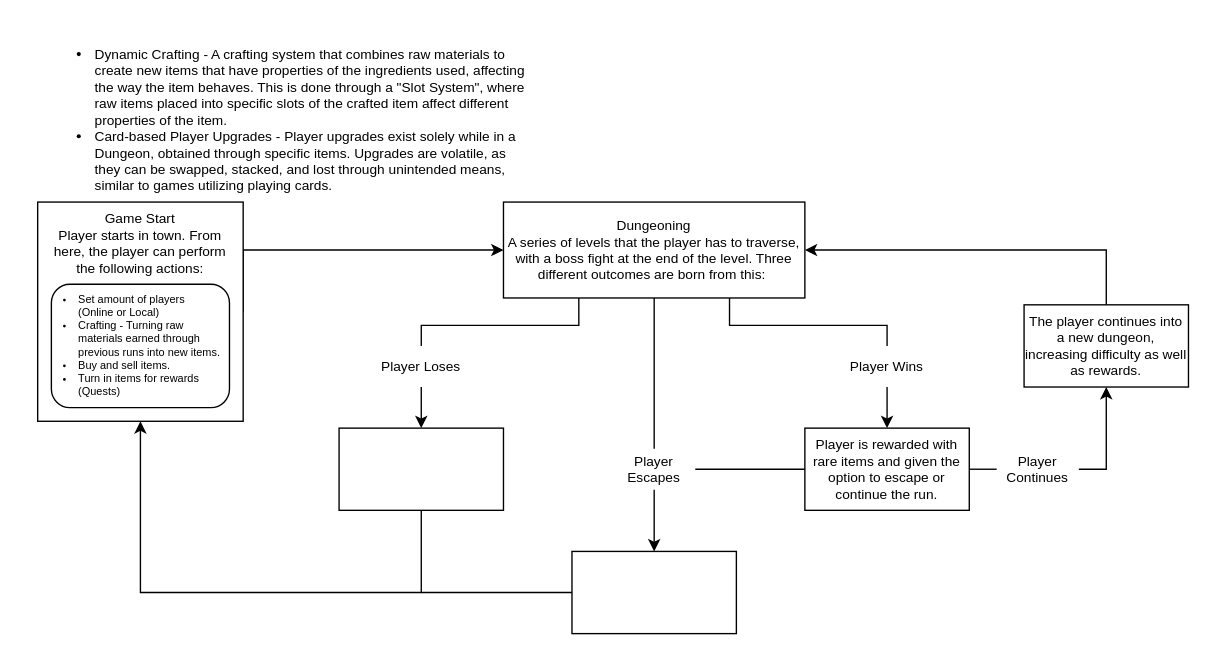
This 1212x658 diagram has some shape labels left out. The shapes that lost their labels are listed below. From the top down, each one's box as (x1, y1, x2, y2) in pixels, then its label:
(338, 427, 503, 510): All items in possession are lost, regardless of value.
(571, 550, 736, 634): All items in possession are kept.
